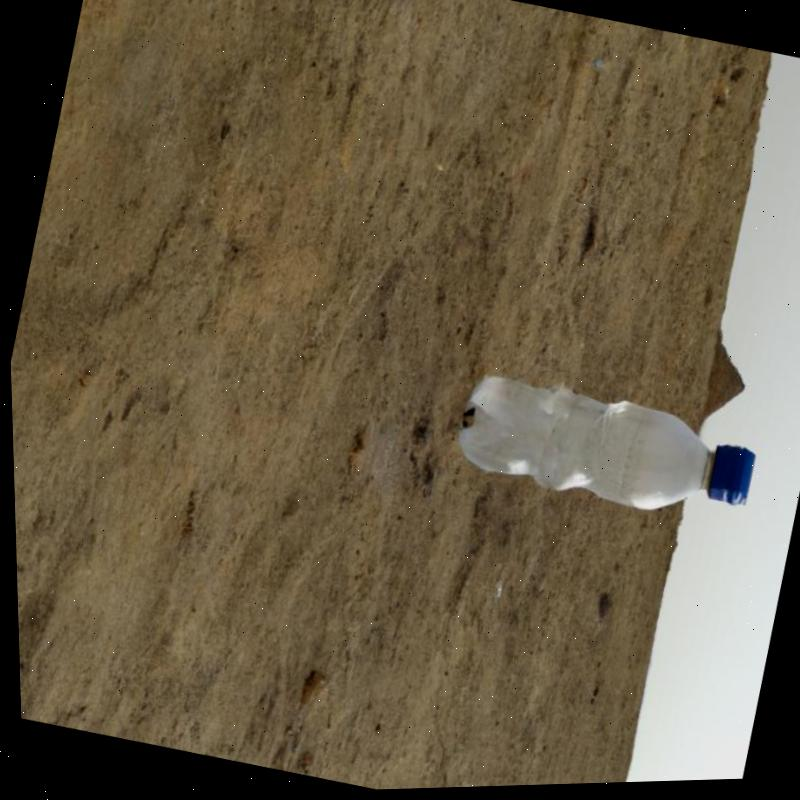botella: (441, 357, 762, 544)
